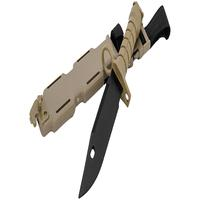knife: (74, 3, 146, 198)
